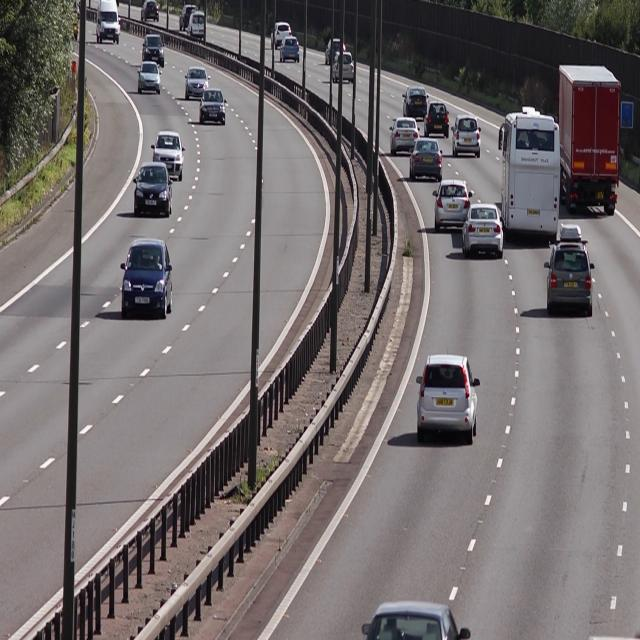Vehicle: (557, 64, 617, 214), (497, 108, 561, 236), (414, 354, 481, 444), (120, 235, 172, 320), (544, 225, 594, 313), (462, 202, 502, 256), (135, 163, 173, 216), (430, 182, 469, 232), (152, 130, 184, 181), (408, 138, 443, 184), (451, 114, 482, 159), (388, 119, 419, 156), (95, 0, 119, 47), (197, 87, 226, 125), (423, 98, 449, 140), (136, 63, 162, 99), (331, 49, 355, 88), (400, 85, 427, 119), (140, 31, 164, 68), (184, 66, 208, 101), (278, 36, 300, 65)
